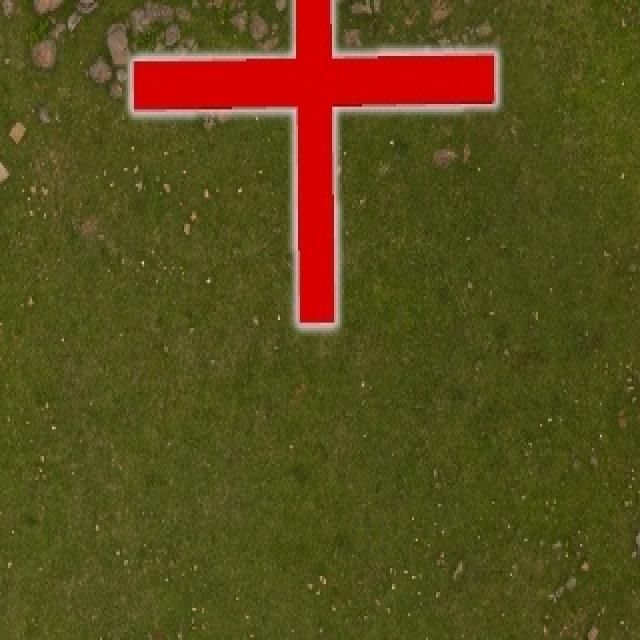x_marker: (131, 0, 495, 323)
